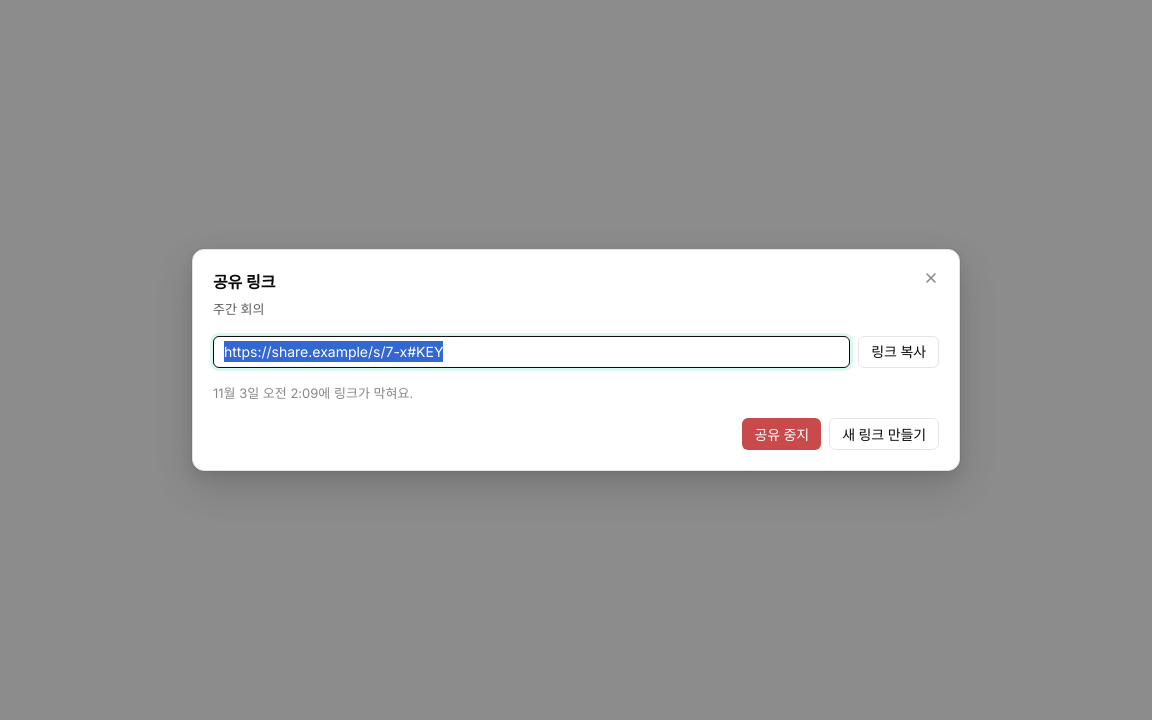
it: 중지 — 202면 대기 안내
Click the button "공유 중지".
click(782, 434)  # box [742,418,821,450]
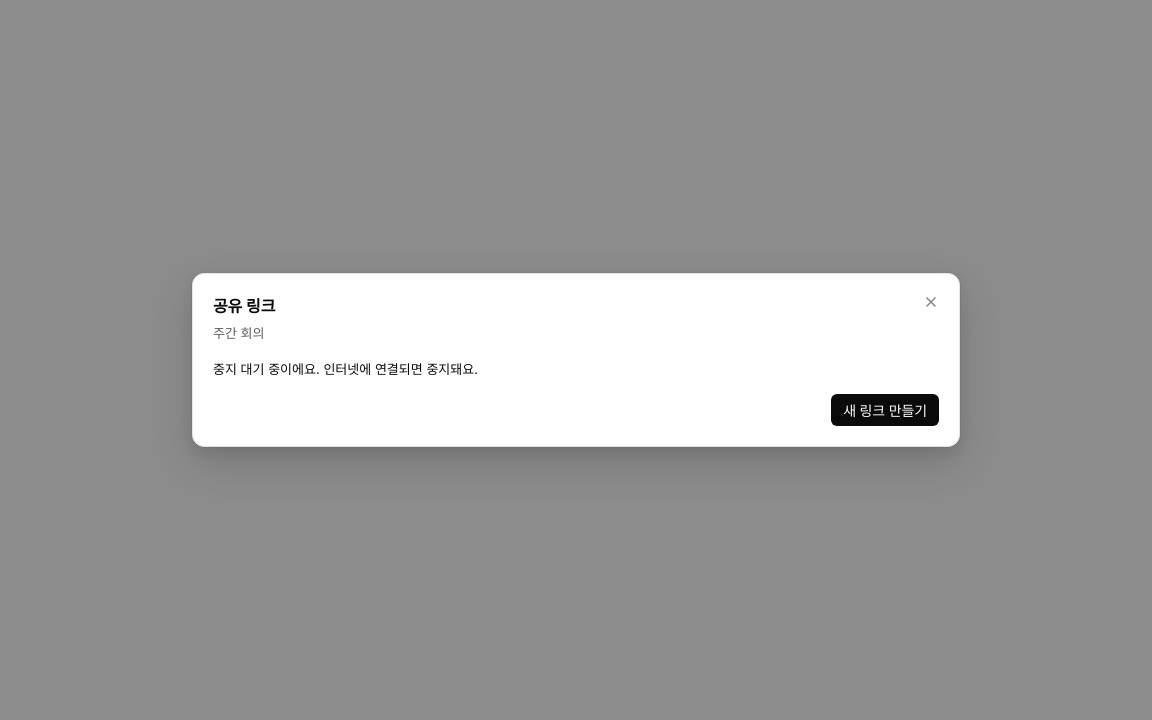
Now the text "중지 대기 중이에요. 인터넷에 연결되면 중지돼요." is shown, box [213,360,478,376]
